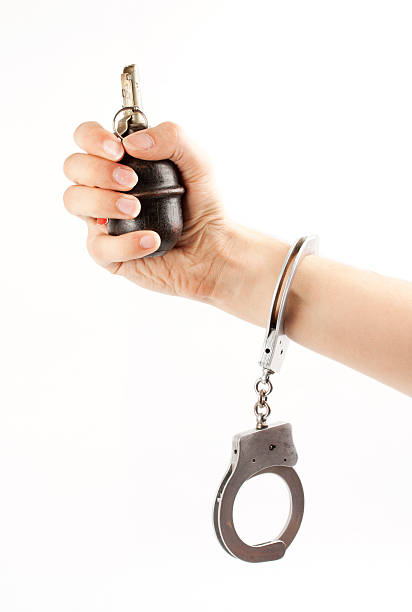e1: (98, 63, 189, 255)
